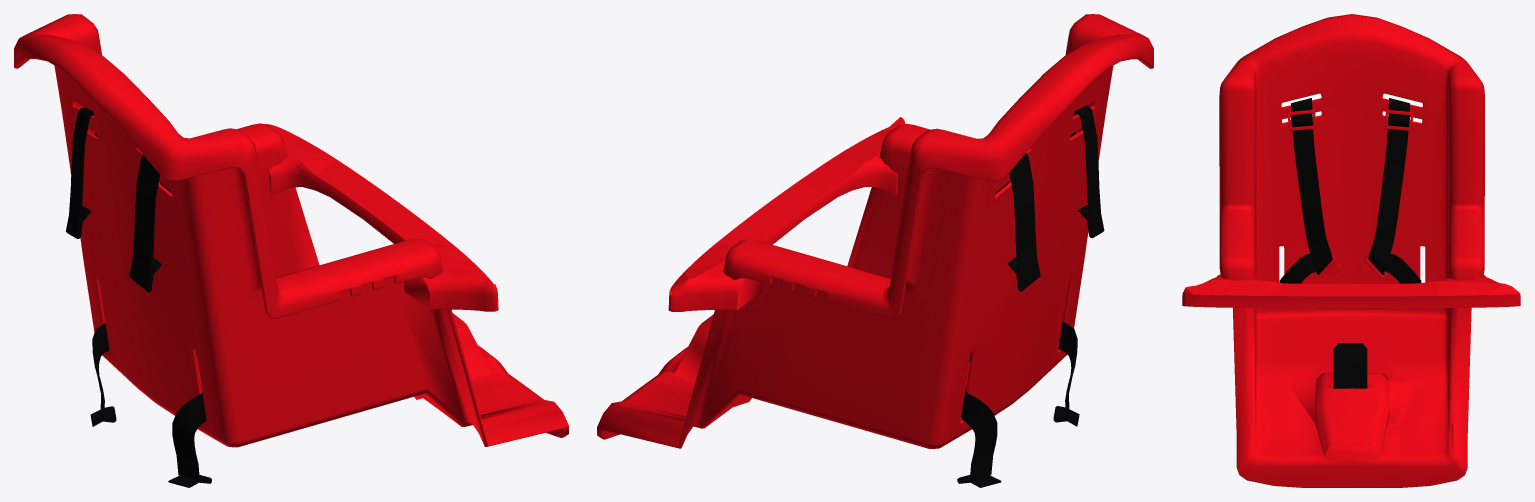
3 renders of one model, left to right at view 1: azimuth 30°, elevation 25°; view 2: azimuth 150°, elevation 25°; view 3: azimuth 270°, elevation 25°, orthographic. The views are drawn at different scales.
Visible parts, largest first — view 1: Front_Strap_low.001; view 2: Front_Strap_low.001; view 3: Front_Strap_low.001.
Part boxes in pixels (box(x1,y1,x2,y2)): Front_Strap_low.001: box(14, 14, 568, 487); Front_Strap_low.001: box(597, 14, 1153, 487); Front_Strap_low.001: box(1182, 14, 1520, 487).
Bounding box in the file's own units: 22.3 × 21.95 × 20.77.
